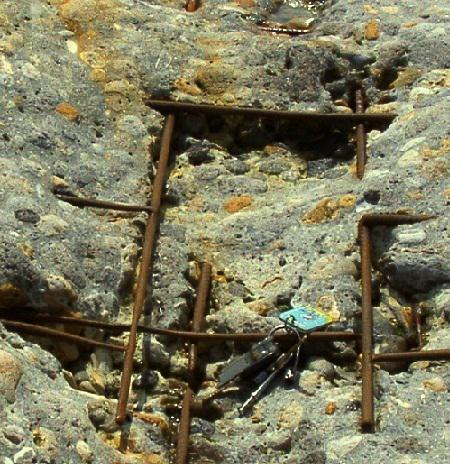Exposed reinforcement: (115, 112, 176, 427), (22, 311, 362, 340), (175, 261, 212, 464), (144, 99, 399, 120), (1, 318, 126, 351), (359, 223, 373, 427), (53, 194, 151, 212), (371, 348, 450, 364), (362, 212, 439, 225), (355, 88, 365, 181)
